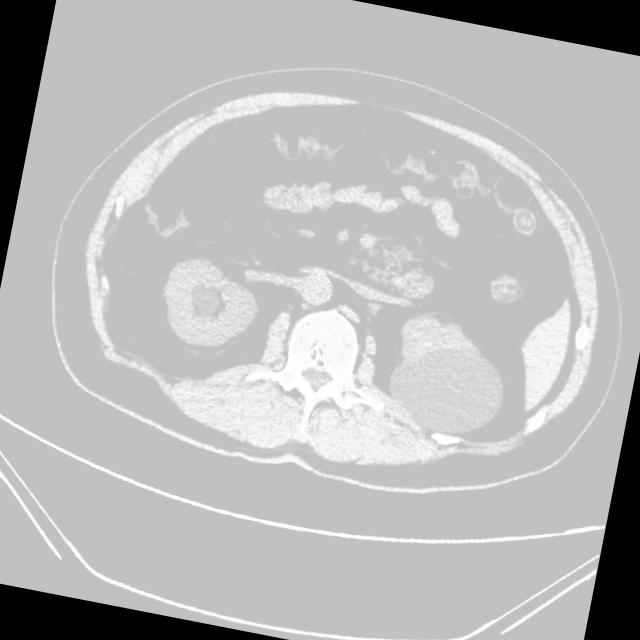cysts: (43, 38, 640, 522)
